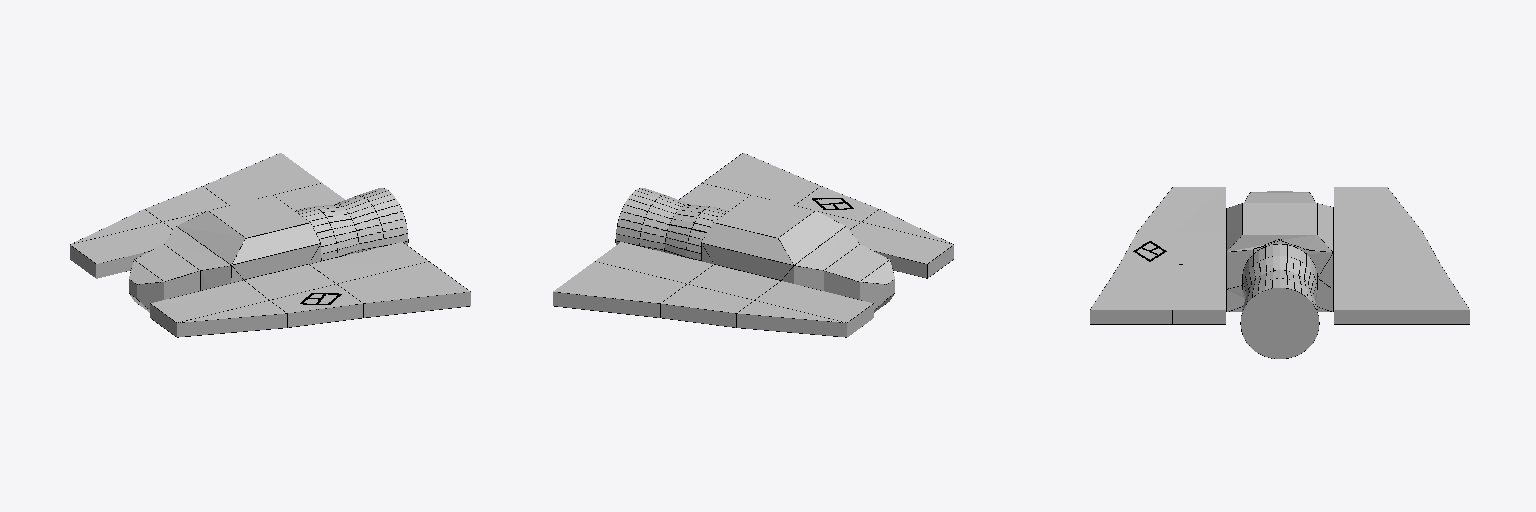
3 views of the same model, side by side, from view 1: azimuth 30°, elevation 25°; view 2: azimuth 150°, elevation 25°; view 3: azimuth 270°, elevation 25° (orthographic).
Parts seen in each view (by area): view 1: bomber_Cube.003; view 2: bomber_Cube.003; view 3: bomber_Cube.003.
Boxes of the visible parts, x1=… form: bomber_Cube.003: x1=70, y1=153, x2=470, y2=337; bomber_Cube.003: x1=553, y1=153, x2=953, y2=337; bomber_Cube.003: x1=1090, y1=187, x2=1469, y2=358.
Bounding box in the file's own units: 5.72 × 1.59 × 7.1.
1 materials, 1 textured.